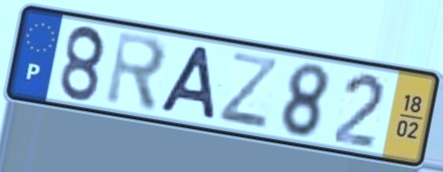2: (330, 70, 388, 152)
8: (278, 61, 332, 141), (58, 24, 106, 103)
A: (156, 43, 218, 123)
R: (103, 28, 170, 116)
Z: (215, 49, 281, 133)
